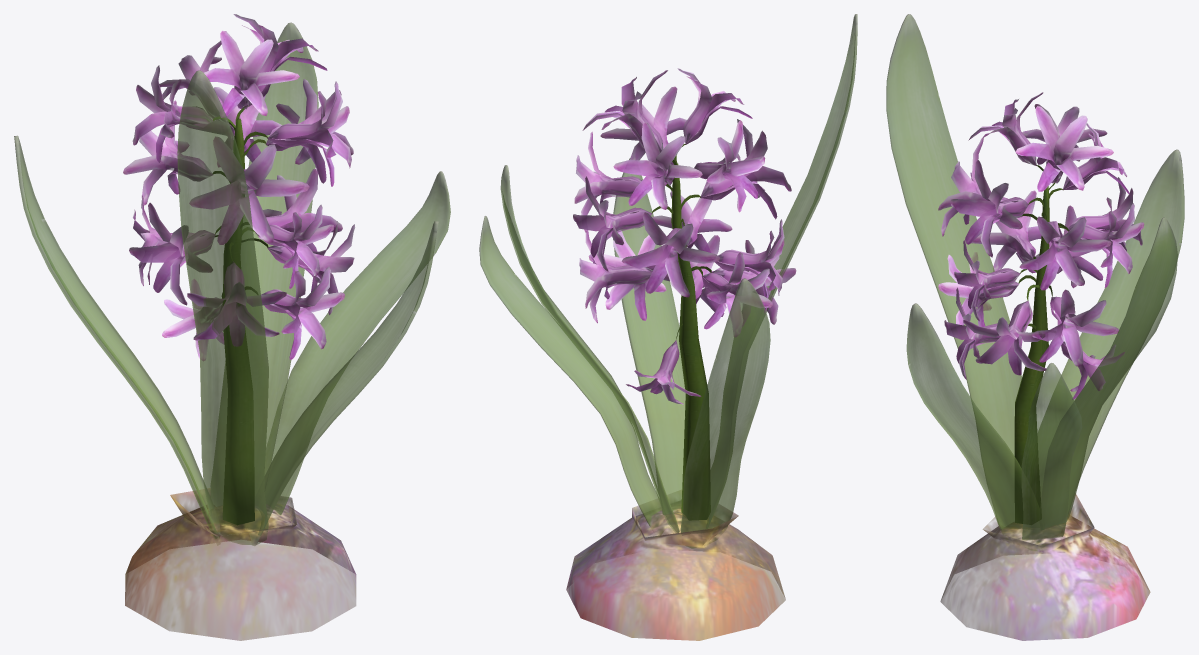
The model's file is preview.glb.
3 renders of one model, left to right at view 1: azimuth 30°, elevation 25°; view 2: azimuth 150°, elevation 25°; view 3: azimuth 270°, elevation 25°, orthographic. The views are drawn at different scales.
Visible parts, largest first — view 1: Flower_Hyacinthus_orientalis_F_Flower_glb, Flower_Hyacinthus_orientalis_F_Leaf_glb, Flower_Hyacinthus_orientalis_F_Stem_glb; view 2: Flower_Hyacinthus_orientalis_F_Flower_glb, Flower_Hyacinthus_orientalis_F_Leaf_glb, Flower_Hyacinthus_orientalis_F_Stem_glb; view 3: Flower_Hyacinthus_orientalis_F_Leaf_glb, Flower_Hyacinthus_orientalis_F_Flower_glb, Flower_Hyacinthus_orientalis_F_Stem_glb.
Part boxes in pixels (x1,y1,x2,y2): Flower_Hyacinthus_orientalis_F_Flower_glb: (123,14,356,640); Flower_Hyacinthus_orientalis_F_Leaf_glb: (14,22,450,545); Flower_Hyacinthus_orientalis_F_Stem_glb: (213,106,268,525); Flower_Hyacinthus_orientalis_F_Flower_glb: (566,68,796,640); Flower_Hyacinthus_orientalis_F_Leaf_glb: (479,14,857,548); Flower_Hyacinthus_orientalis_F_Stem_glb: (652,144,711,520); Flower_Hyacinthus_orientalis_F_Leaf_glb: (886,14,1184,550); Flower_Hyacinthus_orientalis_F_Flower_glb: (938,92,1150,640); Flower_Hyacinthus_orientalis_F_Stem_glb: (1014,165,1068,523).
Bounding box in the file's own units: 0.0829 × 0.1315 × 0.0669.
3 materials, 3 textured.
